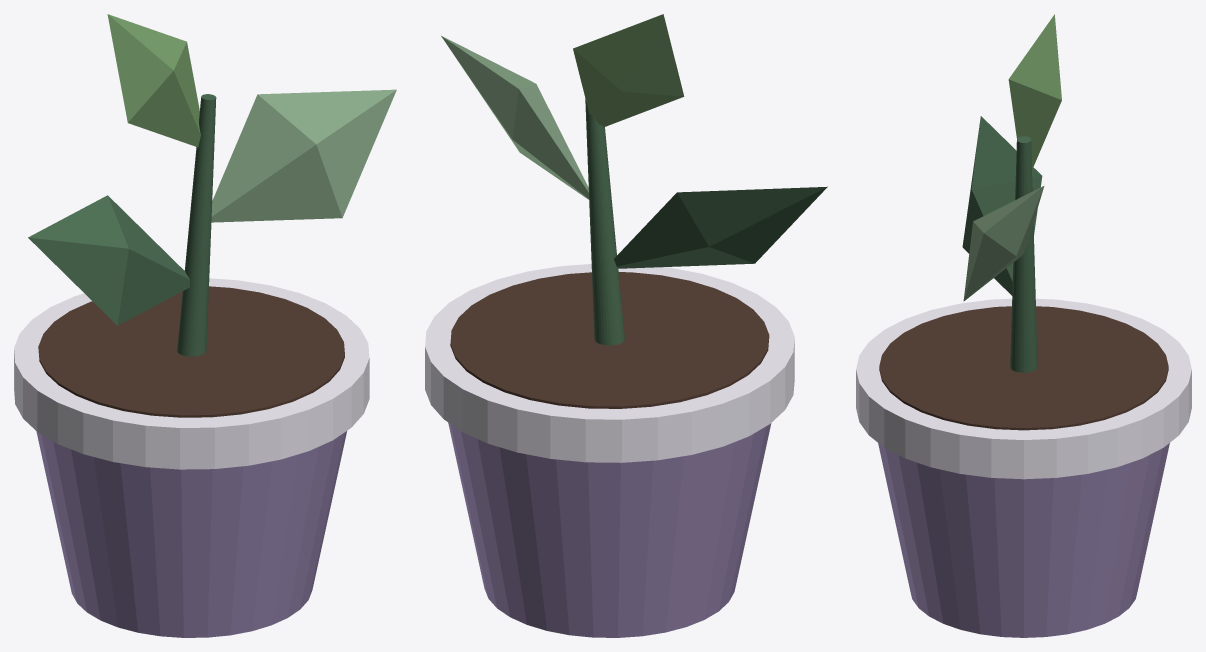
File: pot.glb
3 renders of one model, left to right at view 1: azimuth 30°, elevation 25°; view 2: azimuth 150°, elevation 25°; view 3: azimuth 270°, elevation 25°, orthographic. The views are drawn at different scales.
Parts seen in each view (by area): view 1: ceramic pot, soil, rim, leaf 2, leaf 1, leaf 3, stem; view 2: ceramic pot, soil, rim, leaf 1, leaf 3, leaf 2, stem; view 3: ceramic pot, soil, rim, leaf 3, leaf 2, leaf 1, stem.
Part boxes in pixels (bbox=[...]): ceramic pot: bbox=[36, 431, 346, 637]; soil: bbox=[38, 286, 344, 417]; rim: bbox=[14, 278, 369, 469]; leaf 2: bbox=[211, 89, 396, 222]; leaf 1: bbox=[28, 195, 190, 325]; leaf 3: bbox=[107, 14, 200, 147]; stem: bbox=[177, 94, 216, 356]; ceramic pot: bbox=[448, 422, 771, 637]; soil: bbox=[450, 272, 769, 408]; rim: bbox=[425, 264, 794, 462]; leaf 1: bbox=[614, 186, 827, 268]; leaf 3: bbox=[573, 14, 684, 127]; leaf 2: bbox=[441, 36, 589, 199]; stem: bbox=[585, 99, 624, 345]; ceramic pot: bbox=[878, 443, 1169, 637]; soil: bbox=[879, 306, 1168, 430]; rim: bbox=[856, 298, 1191, 479]; leaf 3: bbox=[1008, 14, 1061, 169]; leaf 2: bbox=[963, 186, 1044, 301]; leaf 1: bbox=[962, 116, 1042, 295]; stem: bbox=[1010, 136, 1037, 372].
Size of the model in its own units: 1.31 by 1.95 by 1.09.
